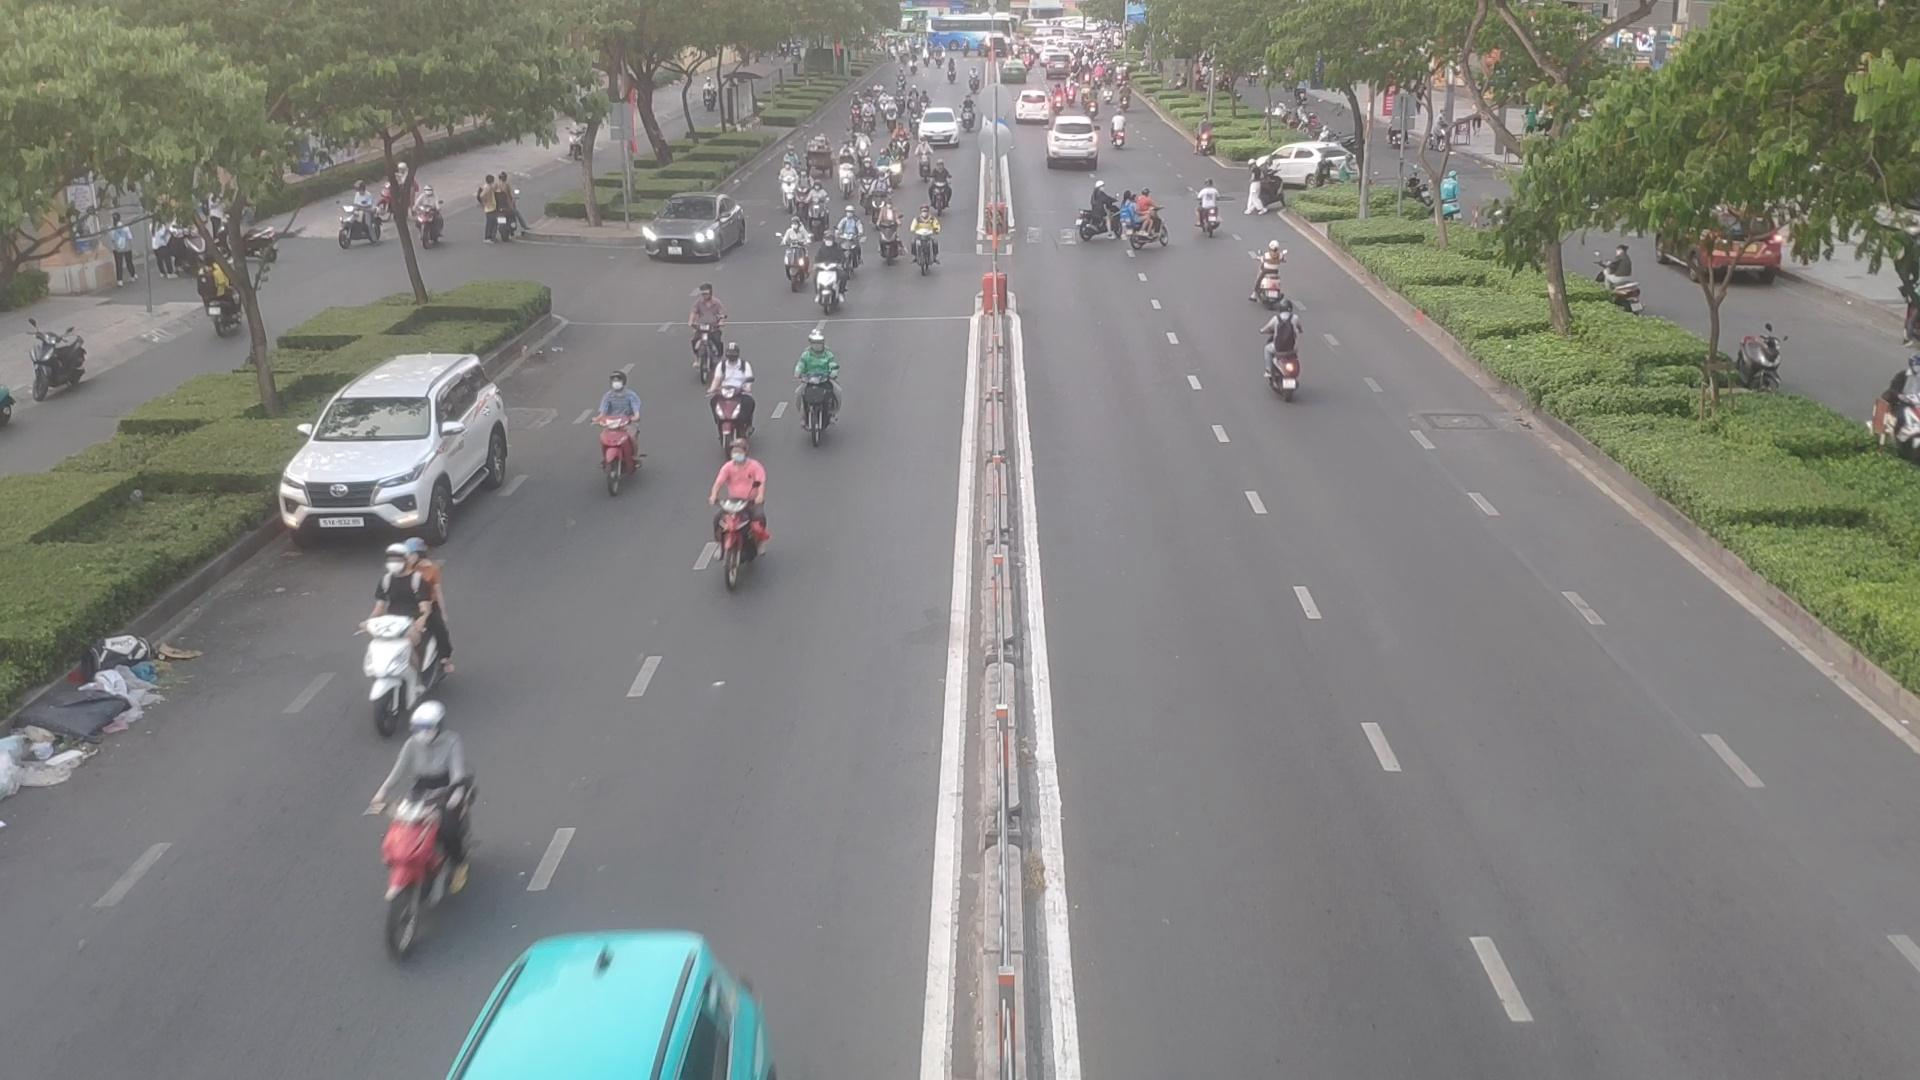car: (278, 356, 513, 545), (637, 194, 750, 261), (1253, 142, 1358, 187), (1048, 113, 1096, 158)
motorbike: (371, 702, 491, 961), (367, 542, 446, 745), (709, 433, 761, 583), (587, 375, 644, 510), (798, 316, 852, 440), (709, 342, 765, 452), (1261, 303, 1315, 400), (682, 272, 727, 381), (1117, 189, 1171, 251), (1077, 185, 1120, 251), (1249, 243, 1282, 313), (777, 216, 804, 298), (876, 200, 899, 268), (913, 204, 934, 278), (1195, 175, 1217, 243), (819, 233, 837, 306), (803, 183, 827, 237), (869, 170, 893, 222), (839, 207, 858, 268), (928, 164, 952, 214), (862, 156, 880, 215), (793, 166, 811, 219), (913, 138, 928, 179), (886, 142, 902, 179), (779, 160, 794, 198), (840, 152, 851, 196), (895, 124, 909, 160)
